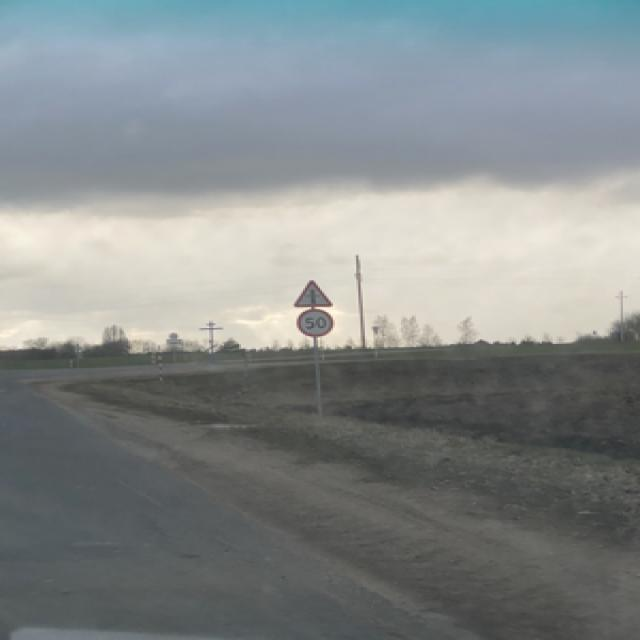speedlimit: (292, 307, 333, 336)
